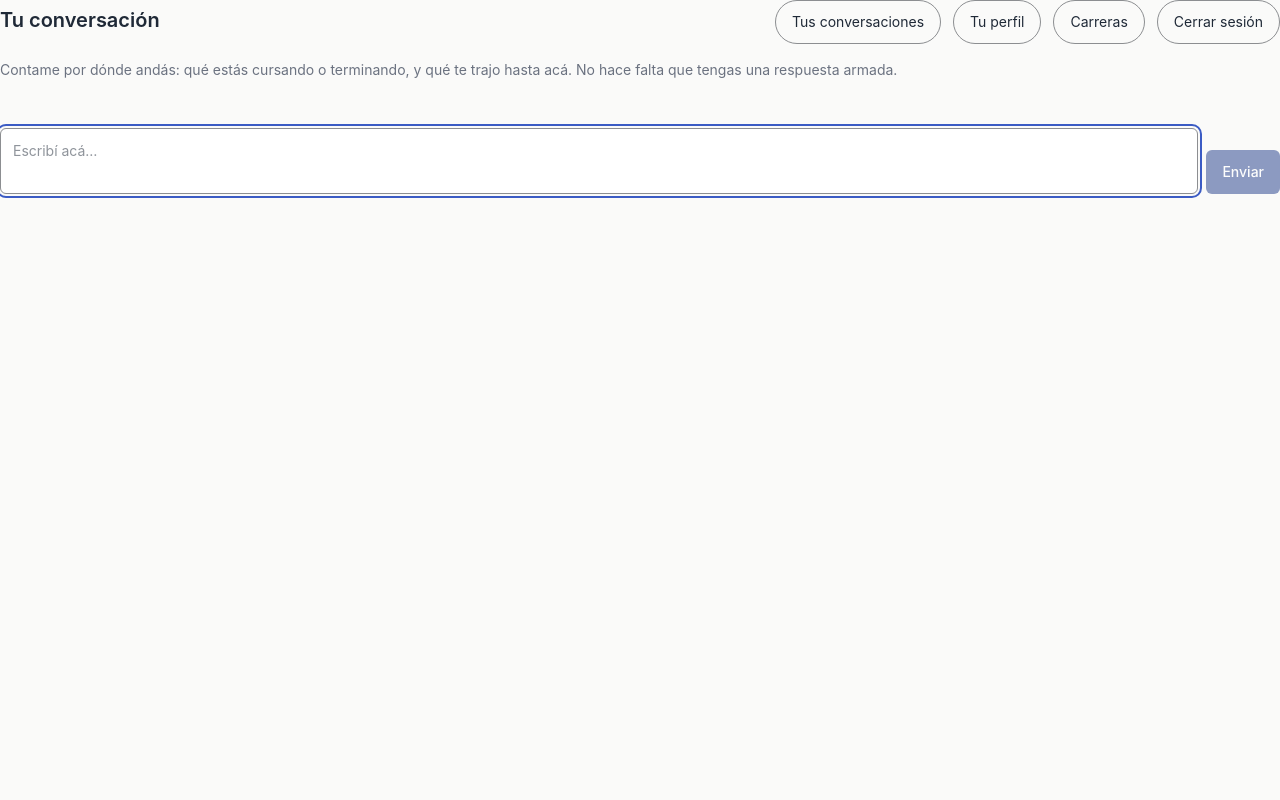
Test: Conversacion · continuidad de la sesión (HU-07) › muestra las fuentes consultadas de la última respuesta, sin decir que las citó
Type "¿Cuánto dura sistemas?" into the text box named "escribí tu mensaje" at coordinates (599, 161), box [0,128,1198,194]
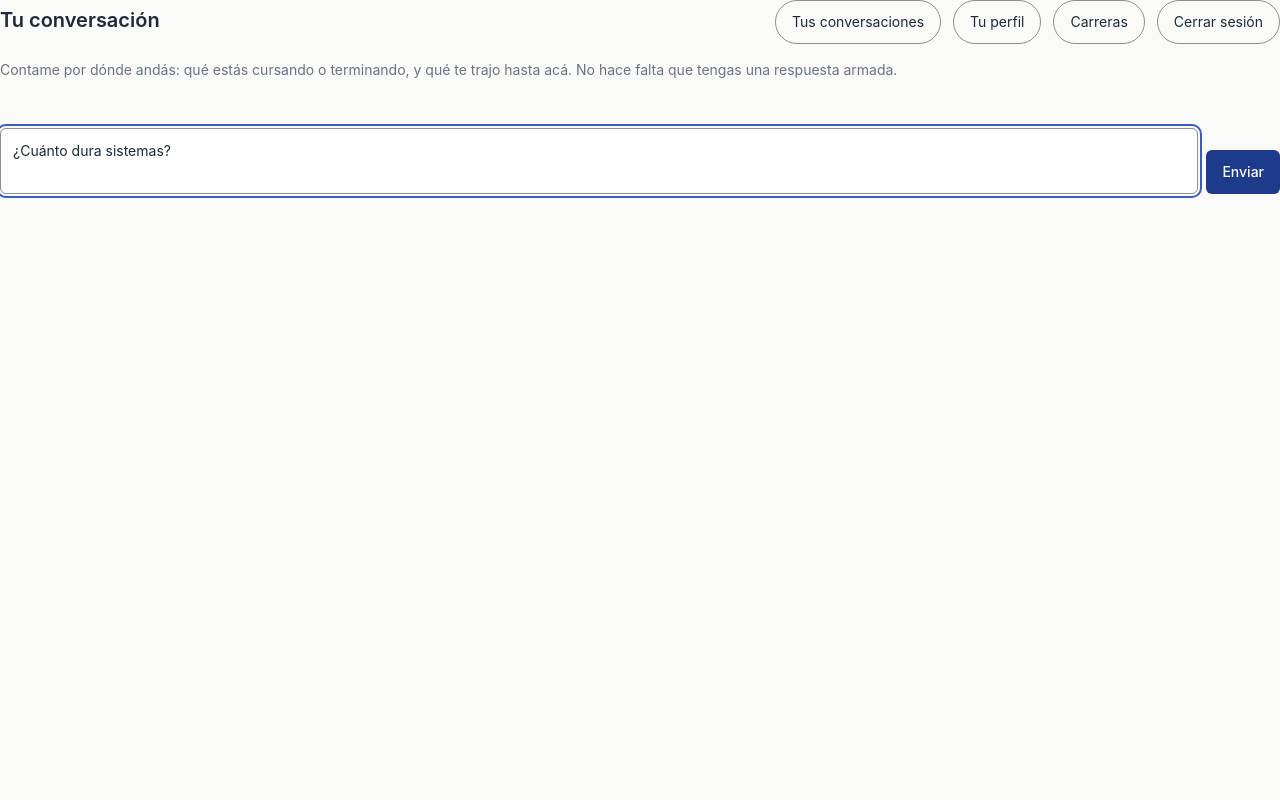
Click the button "Enviar" at coordinates (1243, 172), box [1206,150,1279,194]
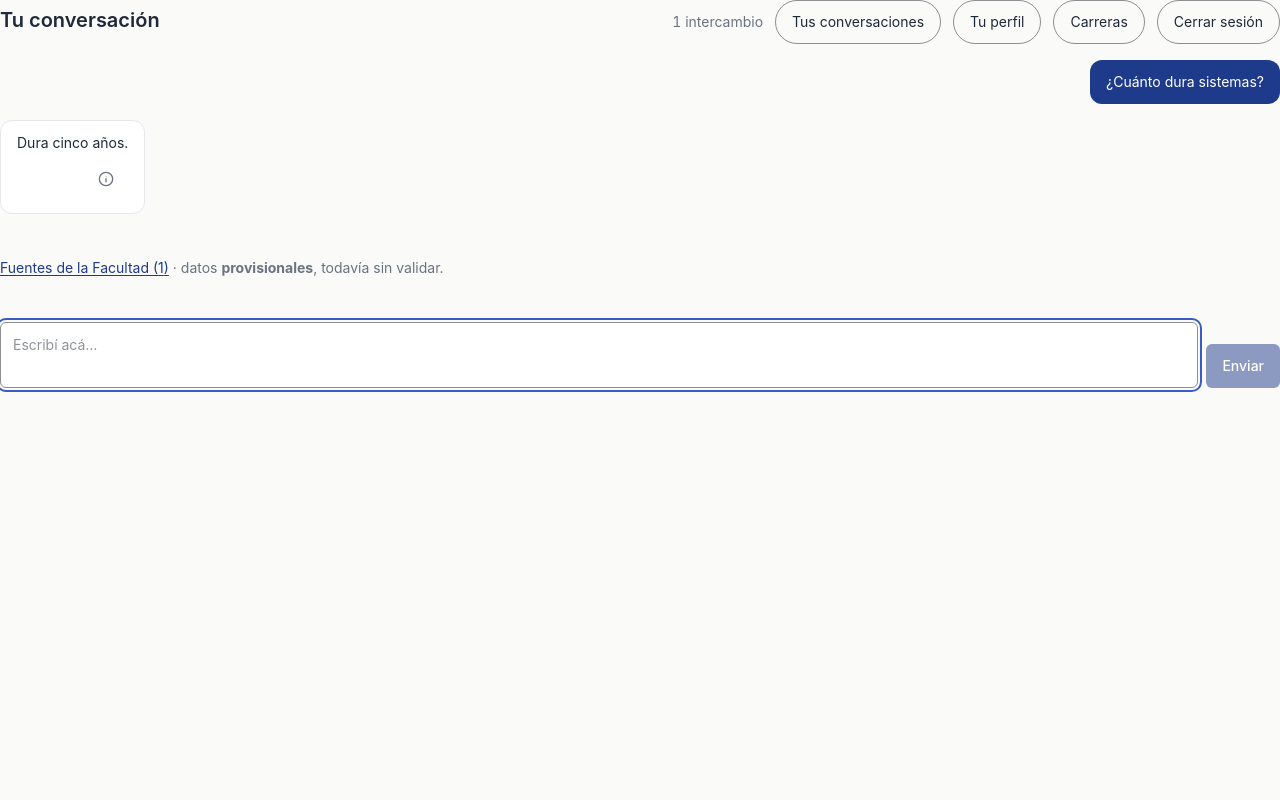
expect the text "sin validar" is shown: met, box [313,259,444,276]
Click the button "Fuentes de la Facultad (1)" at coordinates (84, 268), box [0,246,169,290]
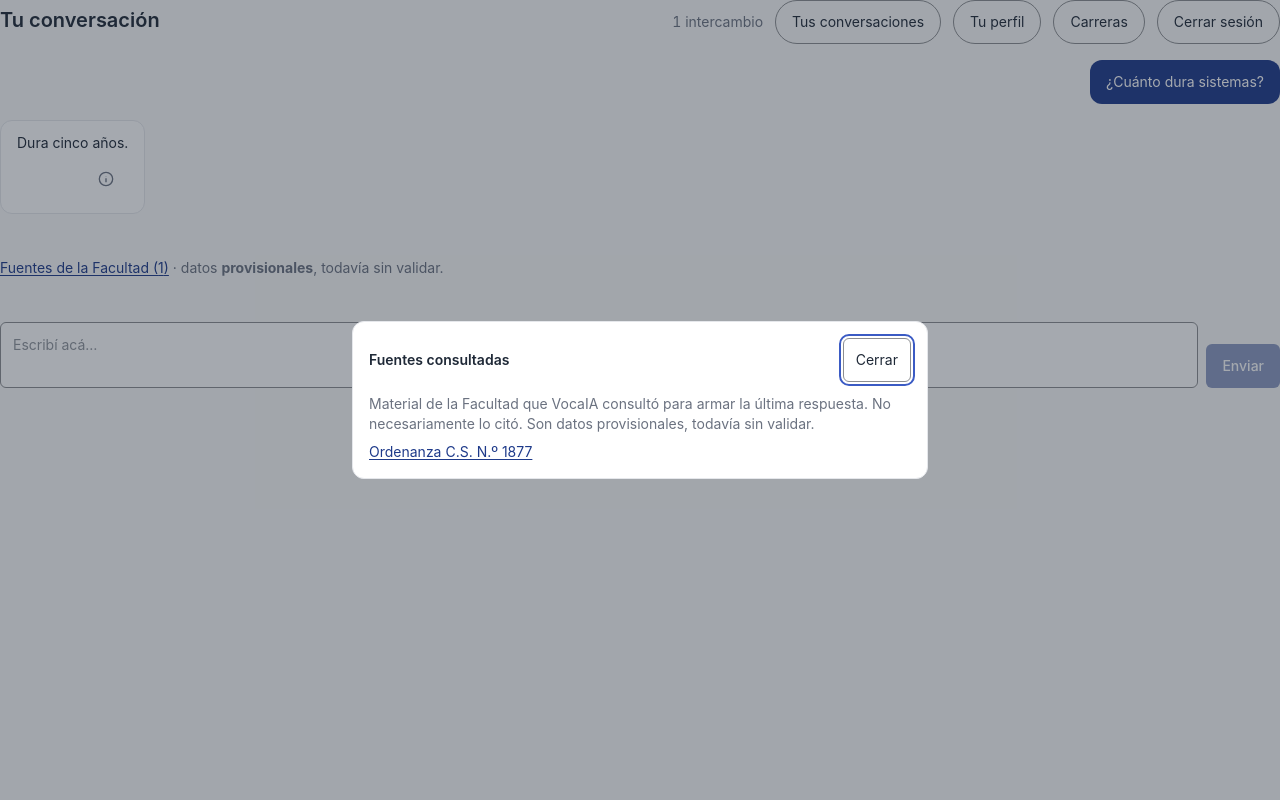
expect the heading "Fuentes consultadas" is shown: met, box [369,350,509,370]
